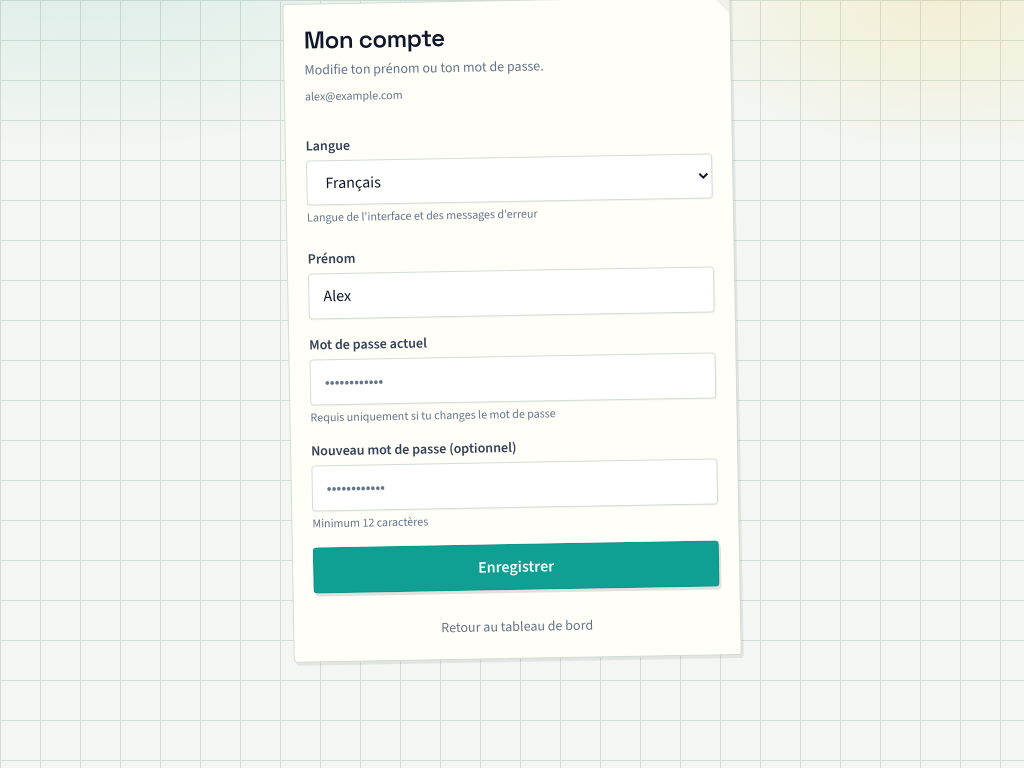
Test: AccountSettingsForm › enregistre le prénom et met à jour la session
The image size is (1024, 768).
Type "Sam" into the field labelled "Prénom". click: (511, 293)
box: [308,266,715,320]
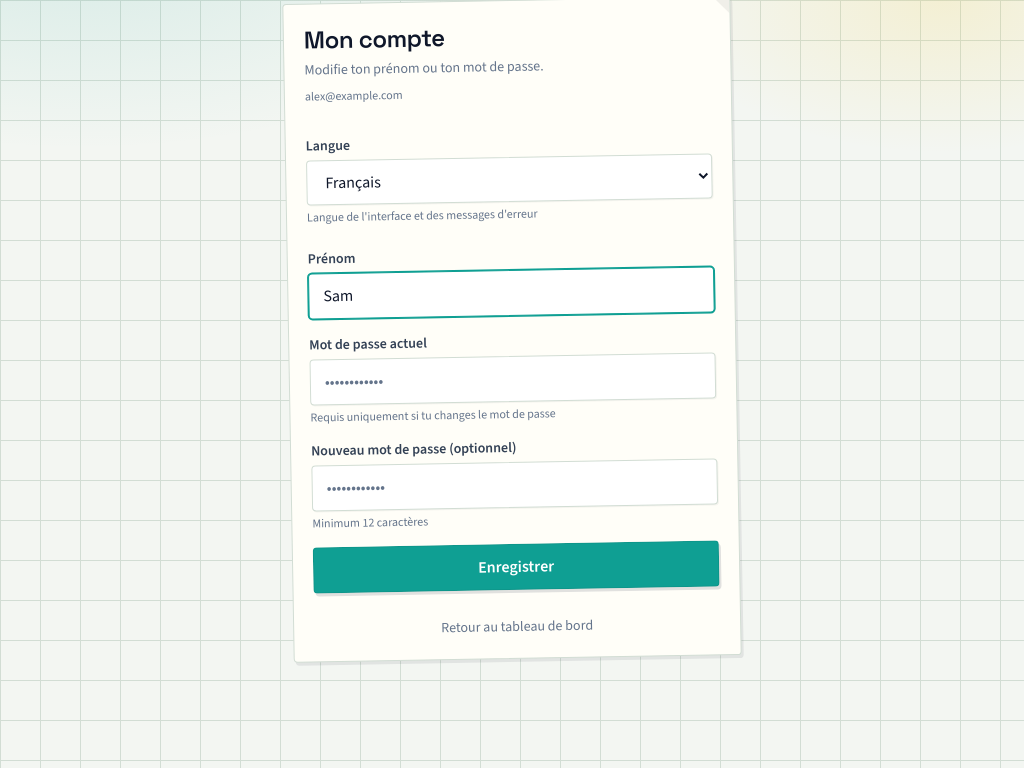
Click the button "Enregistrer". click: (516, 567)
box: [313,540,720,594]
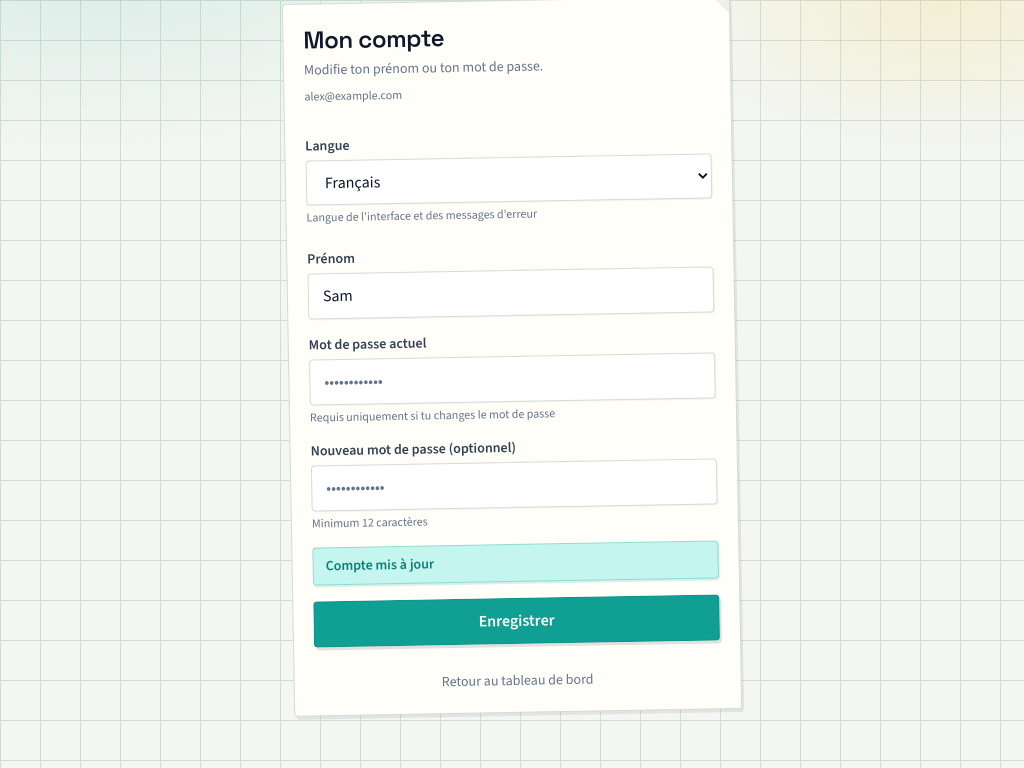
Now the message reads "Compte mis à jour", box [326,554,434,575]
